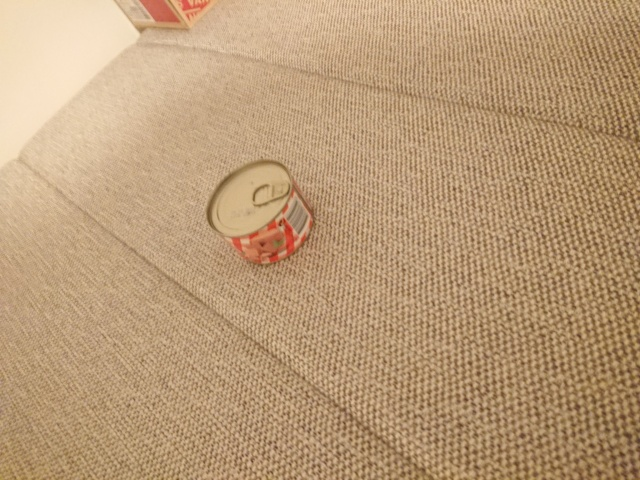Podravka Luncheon Meat 150g: (203, 154, 317, 270)
